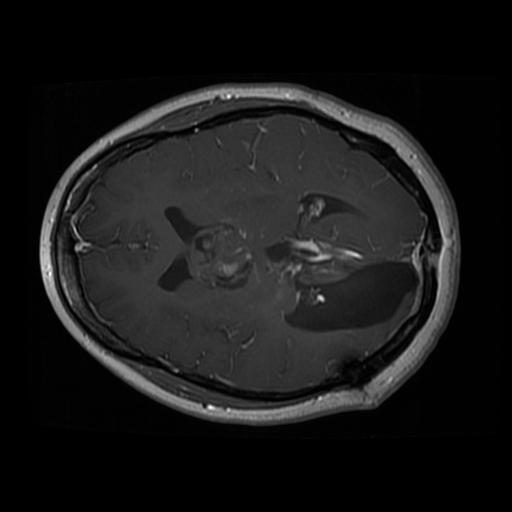glioma: (264, 191, 413, 333)
